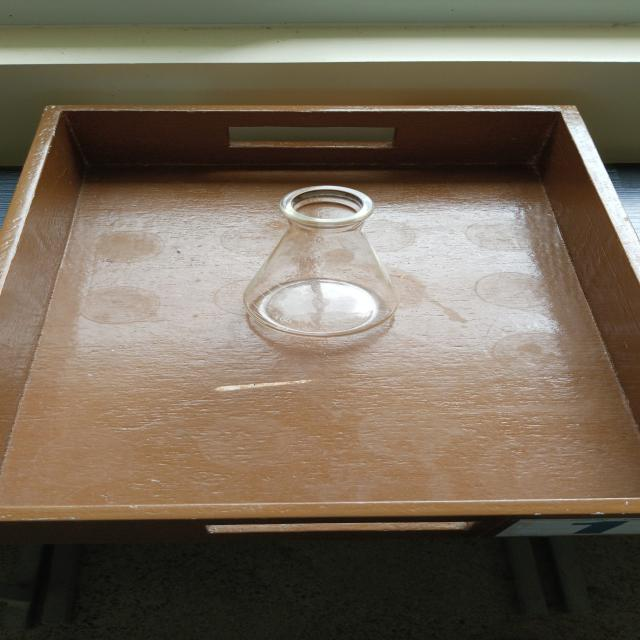erlenmeyer_flask: (238, 181, 402, 341)
